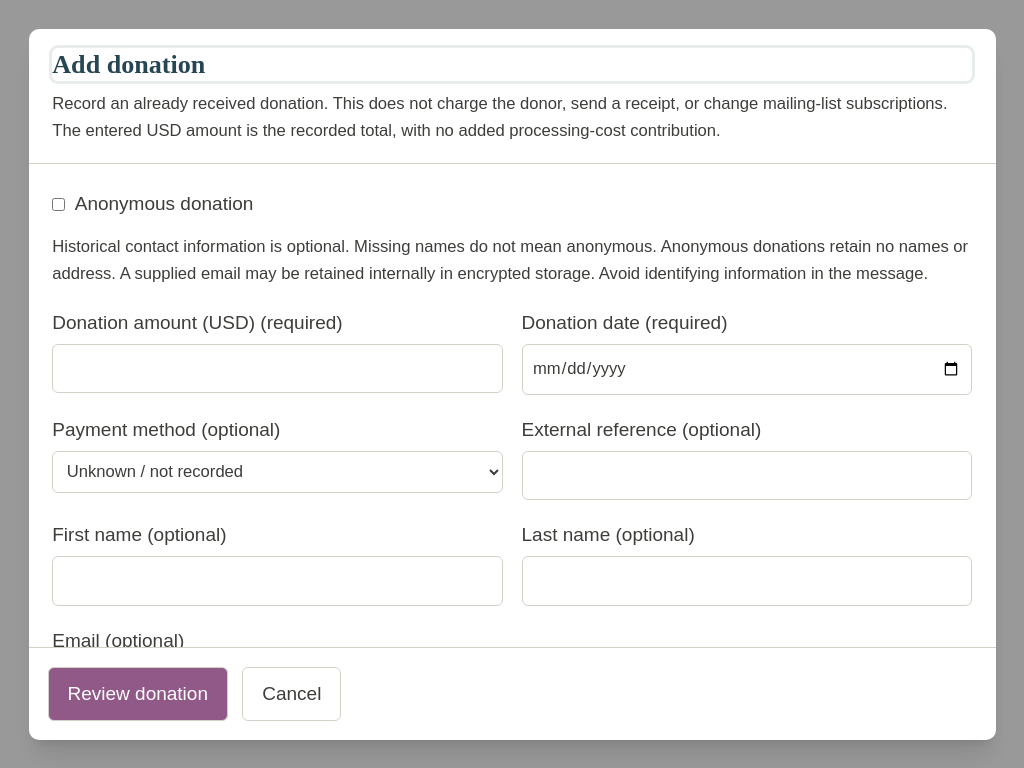
Test case: manual donation entry and review › reviews card as a recorded method rather than an online charge
Type "35.00" into the field labelled "Donation amount (USD) (required)" at (277, 368), box [52,344,503,393]
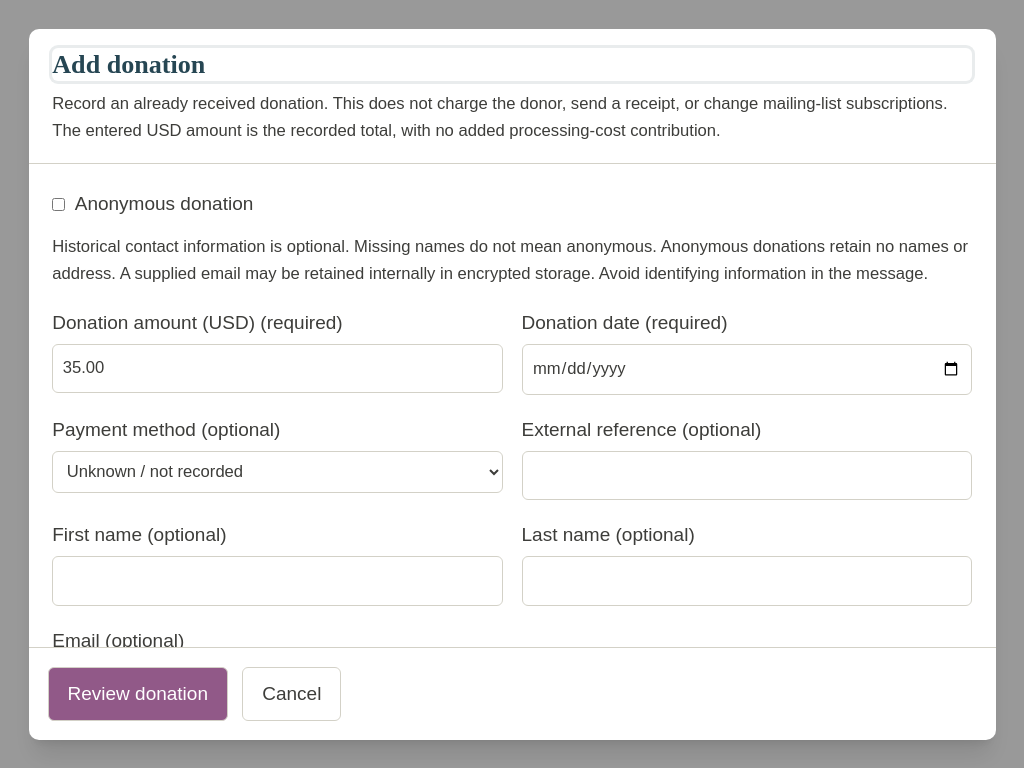
Type "1990-01-02" into the date field labelled "Donation date (required)" at (747, 369), box [522,344,972,395]
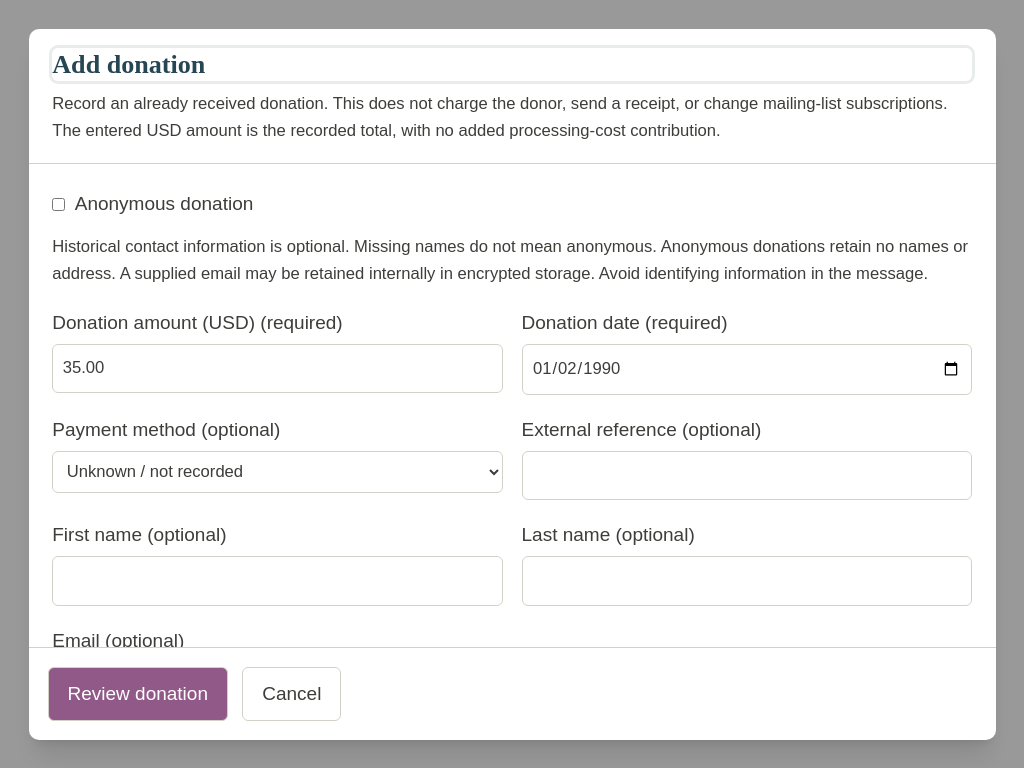
Select "Card (already received)" in the dropdown labelled "Payment method (optional)" at (277, 472), box [52,451,503,493]
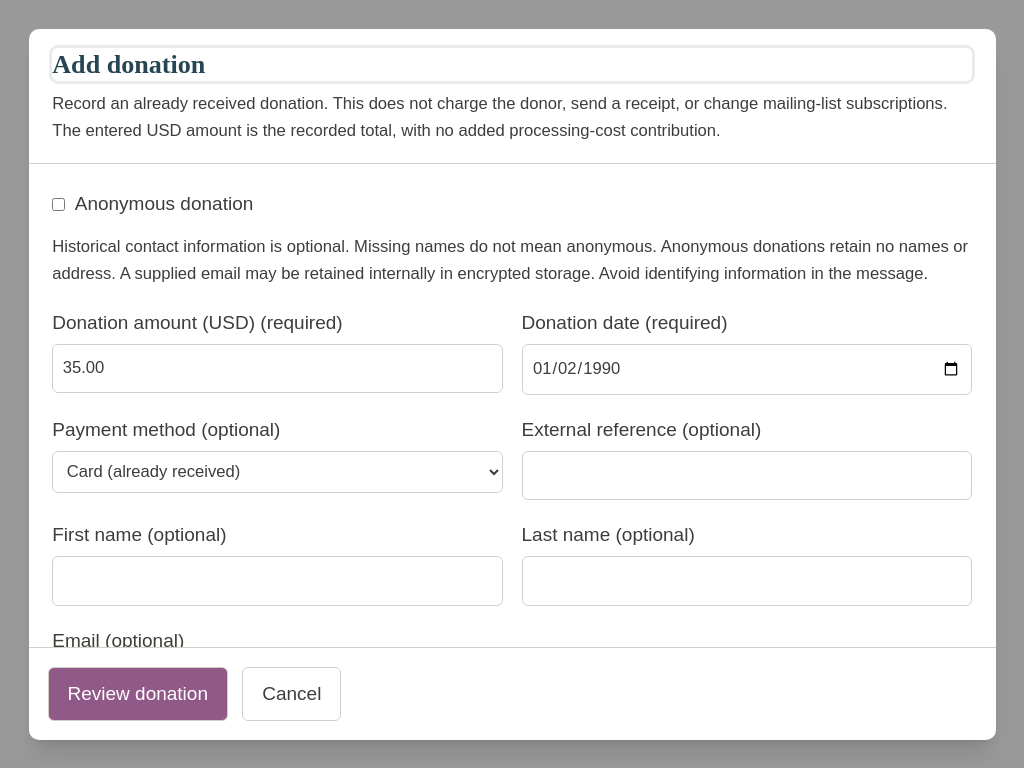
Click the button "Review donation" at (138, 694), box [48,667,228,720]
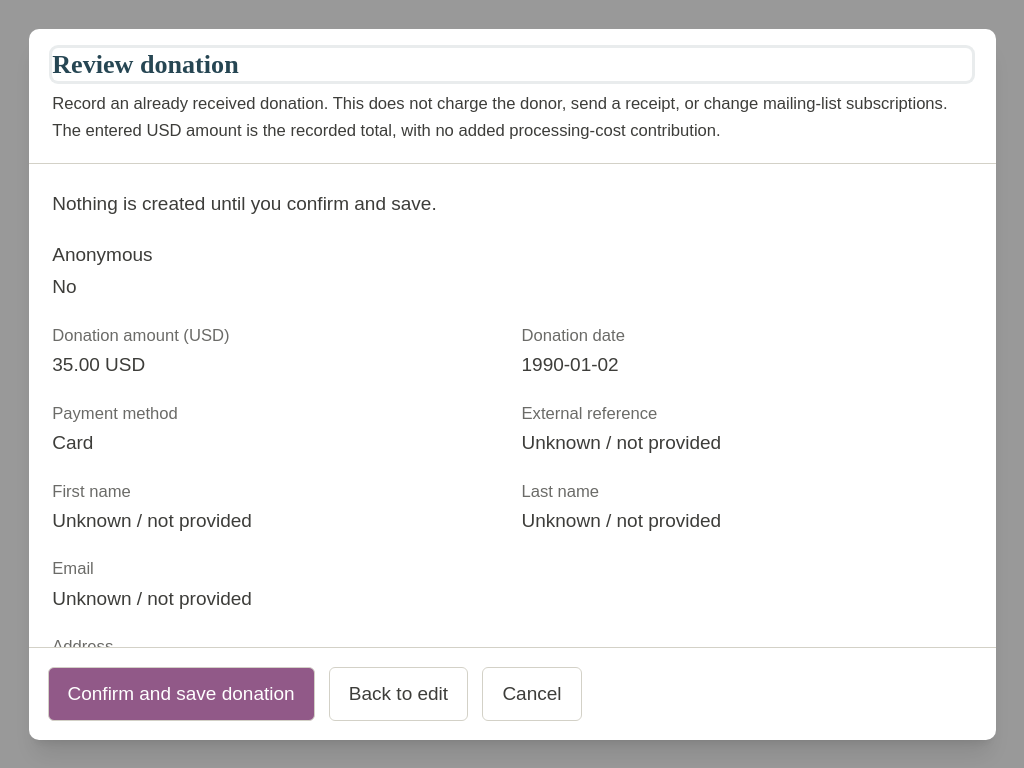
Now the text "Payment method" shows "Card", box [52,432,94,453]
